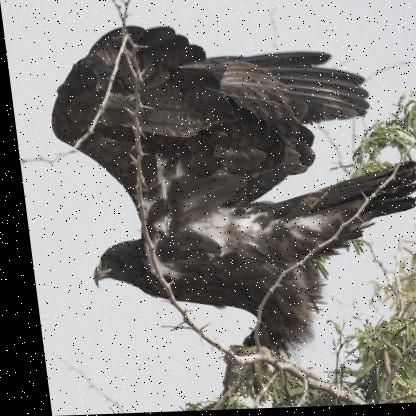Burung: (38, 19, 415, 365)
